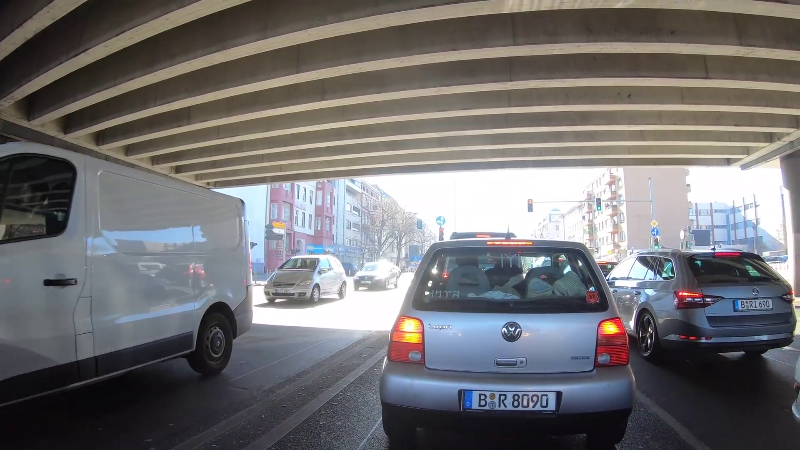Plate: (461, 387, 560, 413), (731, 298, 773, 312)
